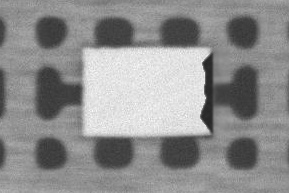DIE_BROKEN: (198, 52, 215, 133)
